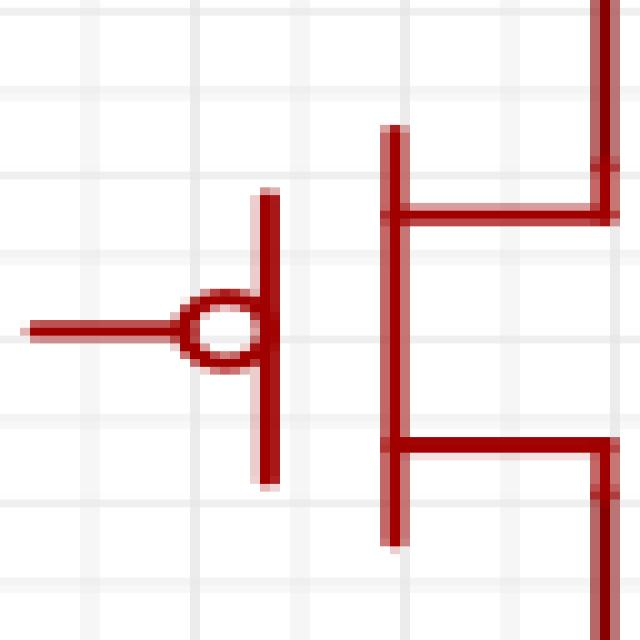pmos: (30, 23, 640, 640)
